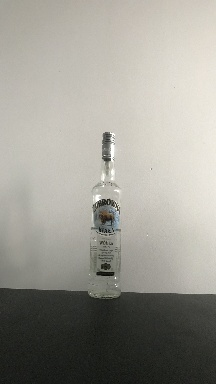butelka: (86, 127, 122, 301)
